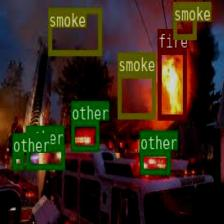fire: (157, 48, 186, 118)
smoke: (47, 7, 101, 54), (117, 72, 155, 118), (173, 2, 196, 38)
